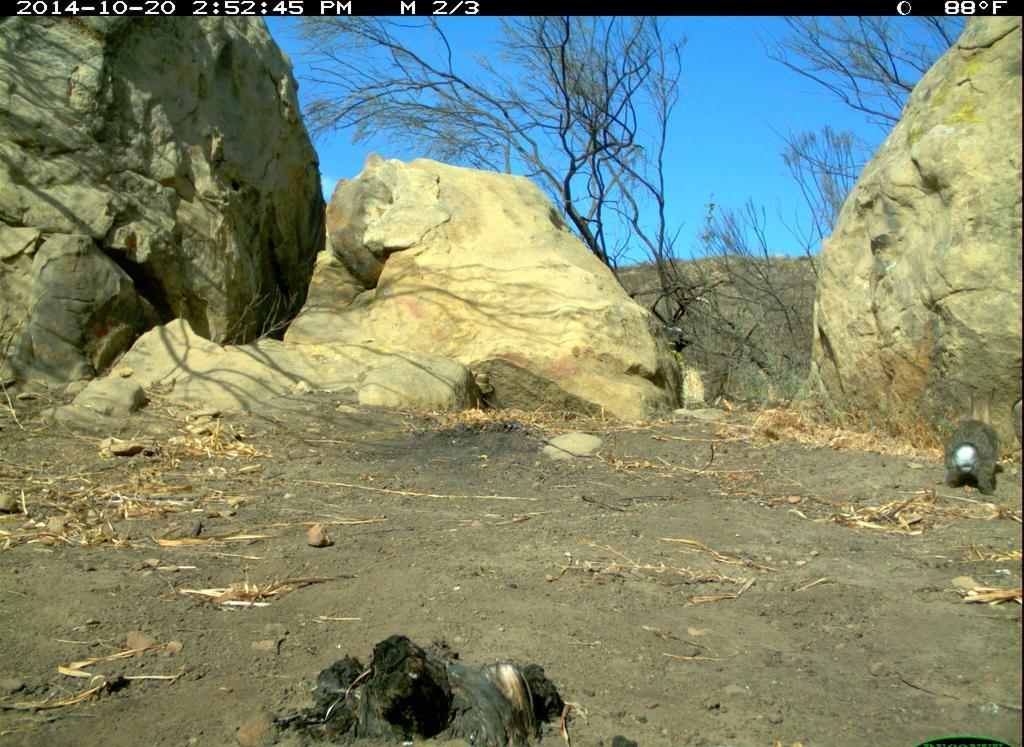rabbit: (940, 381, 1007, 500)
